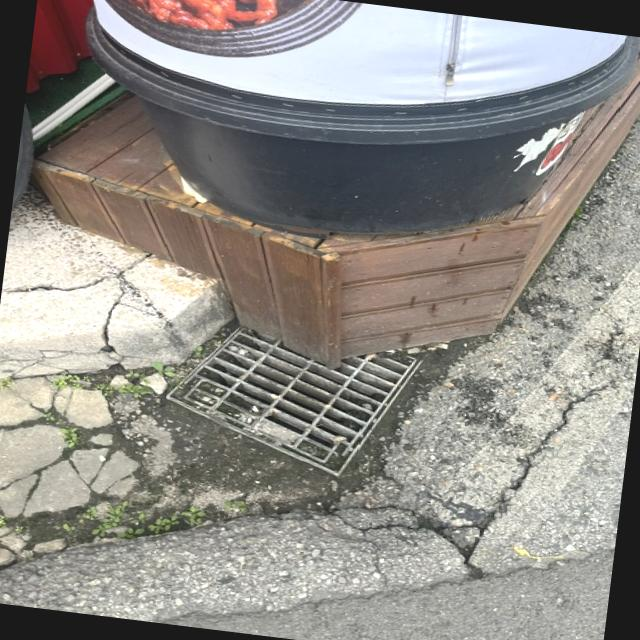drain_area: (223, 332, 409, 443)
drain_full: (167, 299, 417, 474)
